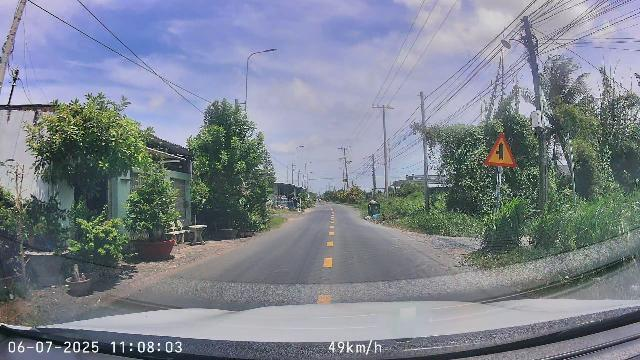207-giao-nhau-voi-duong-khong-uu-tien: (483, 132, 516, 167)
